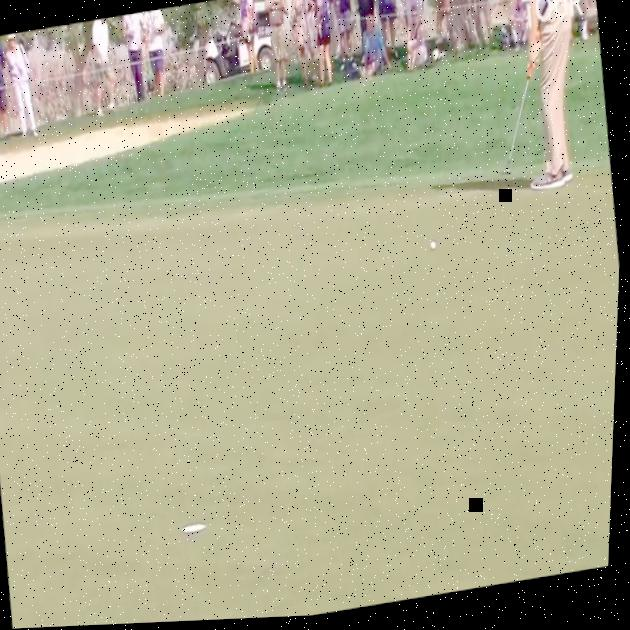GolfBall: (425, 236, 443, 261)
